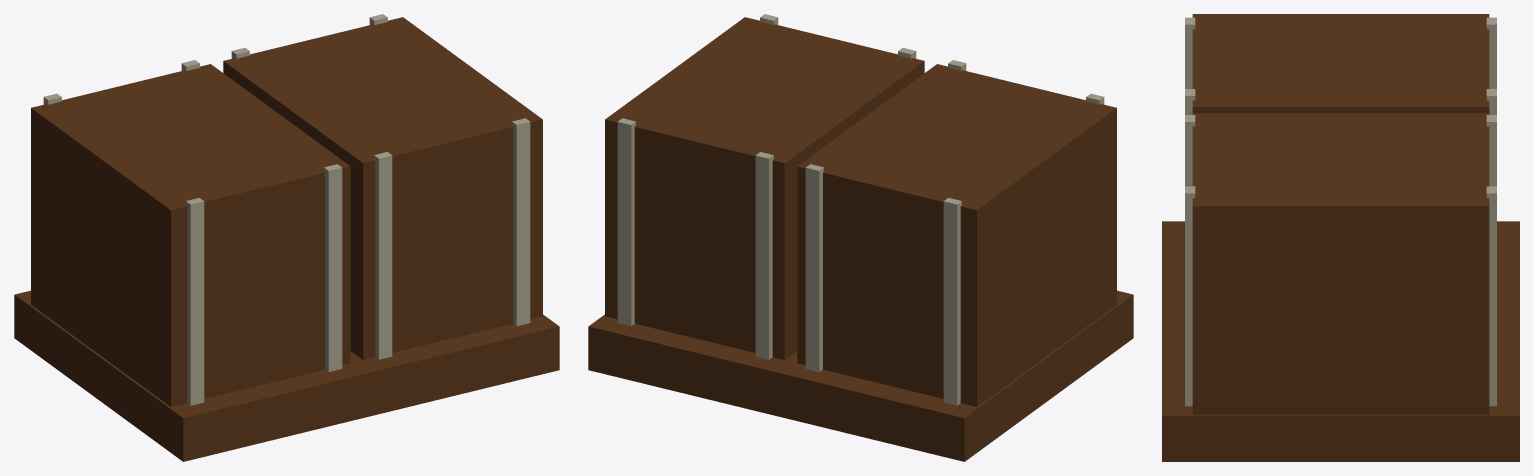
The model's file is pallet_crates.obj.
The picture shows the model from 3 angles, left to right: view 1: azimuth 30°, elevation 25°; view 2: azimuth 150°, elevation 25°; view 3: azimuth 270°, elevation 25°; orthographic projection. The views are drawn at different scales.
Visible parts, largest first — view 1: Wood, Warm_Plaster; view 2: Wood, Warm_Plaster; view 3: Wood, Warm_Plaster.
Boxes of the visible parts, x1,y1,x2,y2 form: Wood: [14, 17, 559, 461]; Warm_Plaster: [43, 14, 530, 405]; Wood: [588, 17, 1133, 461]; Warm_Plaster: [617, 14, 1104, 405]; Wood: [1162, 14, 1519, 461]; Warm_Plaster: [1185, 17, 1496, 406].
Size of the model in its own units: 1.8 by 1.12 by 1.4.
